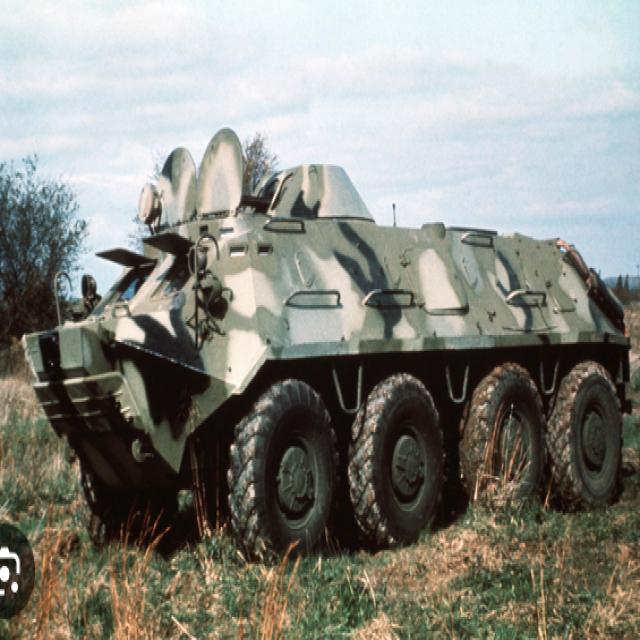MIL_APC: (9, 181, 640, 550)
